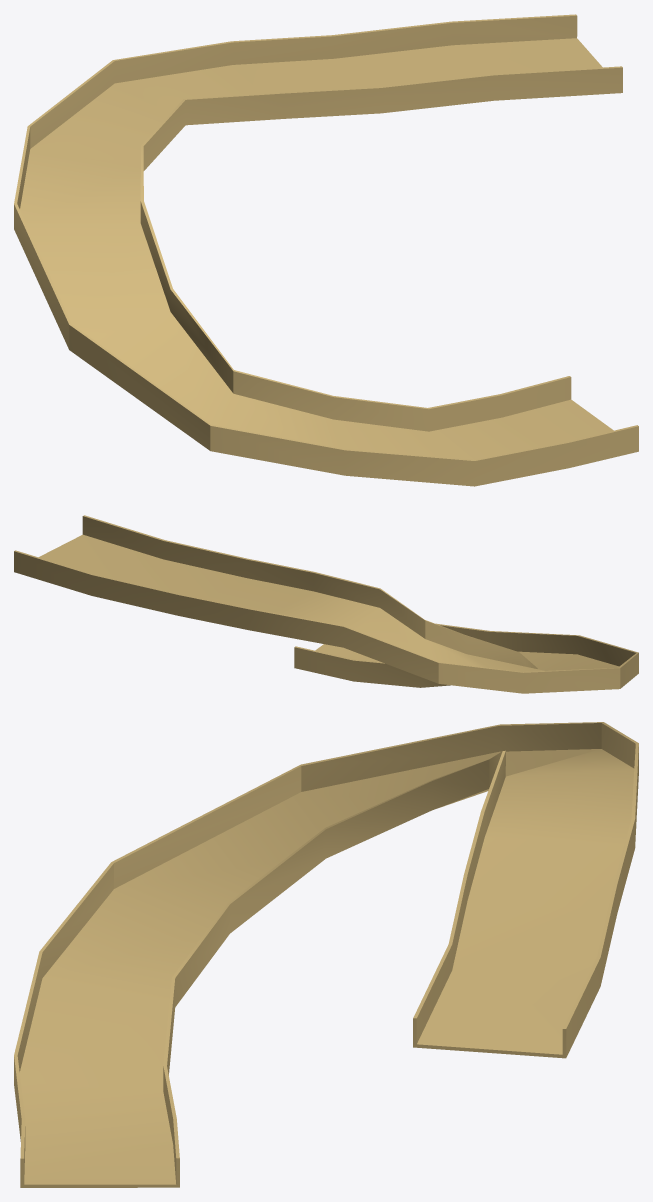
File: floating road 1.fbx
3 views of the same model, one above another, from view 1: azimuth 30°, elevation 25°; view 2: azimuth 150°, elevation 25°; view 3: azimuth 270°, elevation 25° (orthographic). The views are drawn at different scales.
Visible parts, largest first — view 1: floating road 1; view 2: floating road 1; view 3: floating road 1.
Part boxes in pixels (x1=…): floating road 1: x1=14, y1=14, x2=638, y2=486; floating road 1: x1=14, y1=515, x2=638, y2=693; floating road 1: x1=14, y1=722, x2=638, y2=1187.
Bounding box in the file's own units: 160 × 63.79 × 121.
